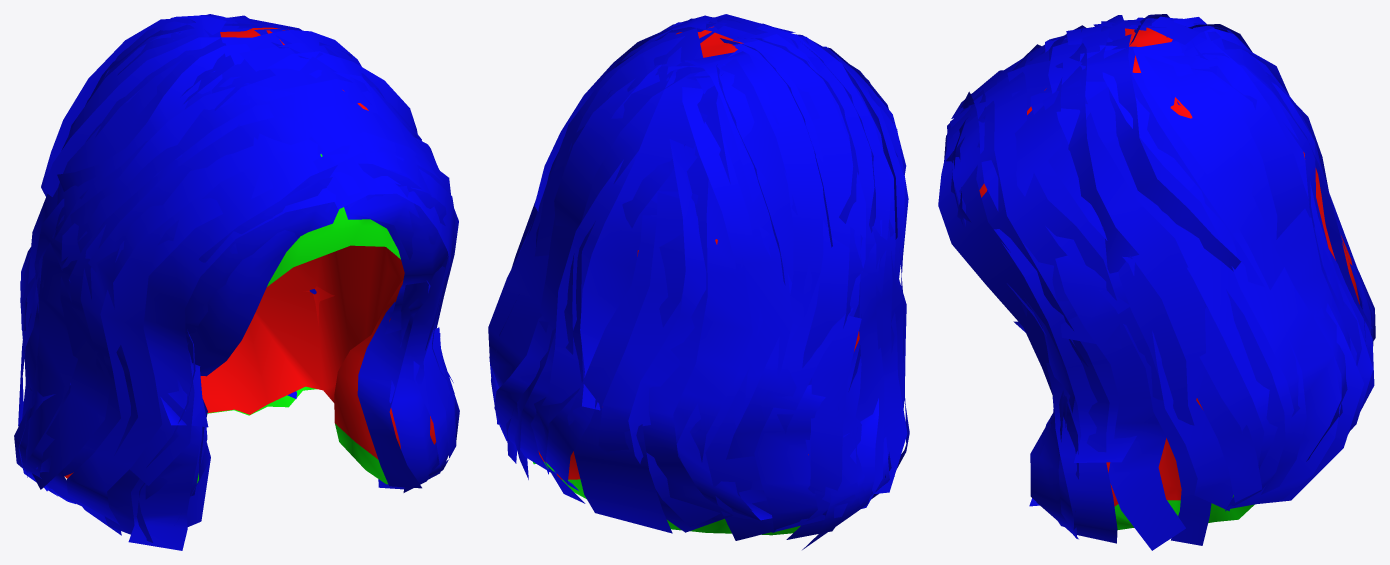
Rendered from hair_008.obj.
The picture shows the model from 3 angles, left to right: view 1: azimuth 30°, elevation 25°; view 2: azimuth 150°, elevation 25°; view 3: azimuth 270°, elevation 25°; orthographic projection. The views are drawn at different scales.
Bounding box in the file's own units: 24.53 × 29.02 × 25.88.
